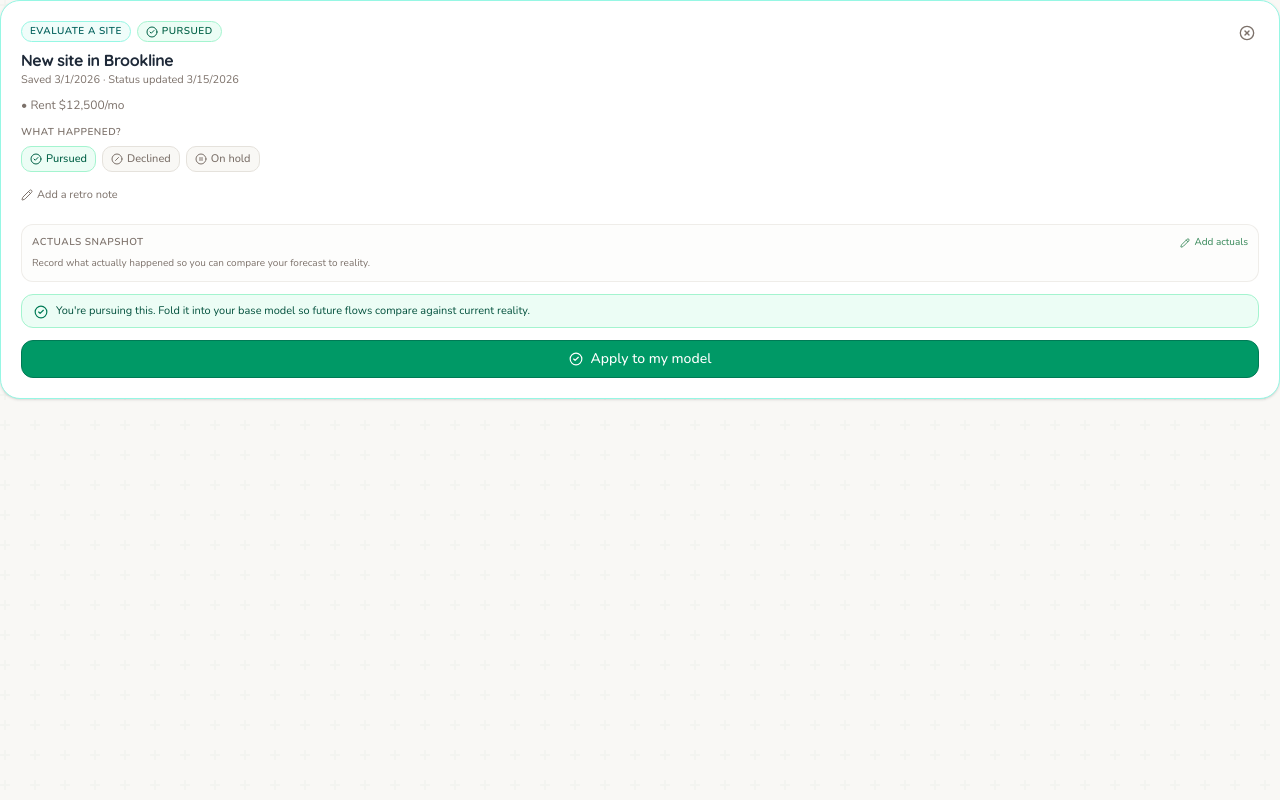
Test: CustomScenarioCard — un-mapped revenue/expense gap chips (Task #495) › renders only the side that has a gap when the other side reconciles
The width and height of the screenshot is (1280, 800).
Click the button with test id "custom-scenario-actuals-edit-0" at (1214, 242), box [1180, 235, 1248, 250]
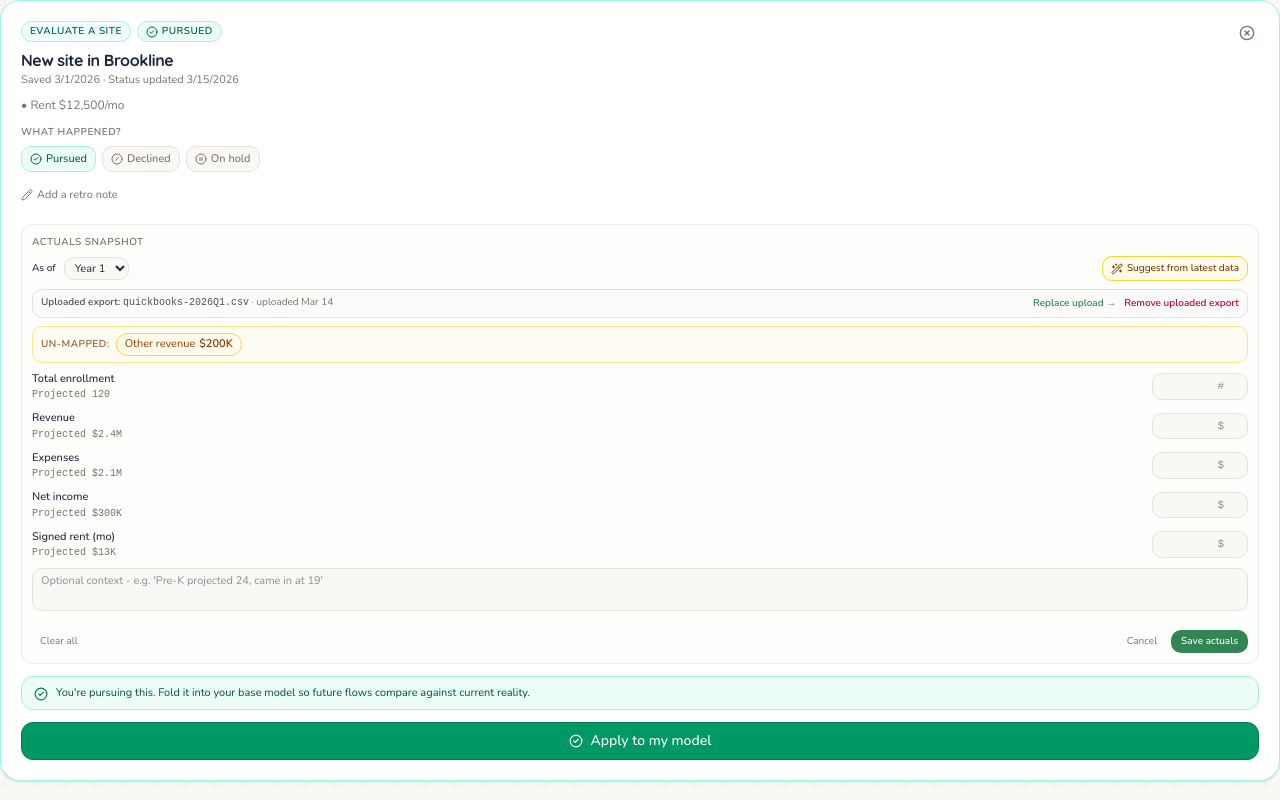
Check: the element with test id "custom-scenario-actuals-export-gap-revenue-0" is shown, box [116, 333, 242, 356]
